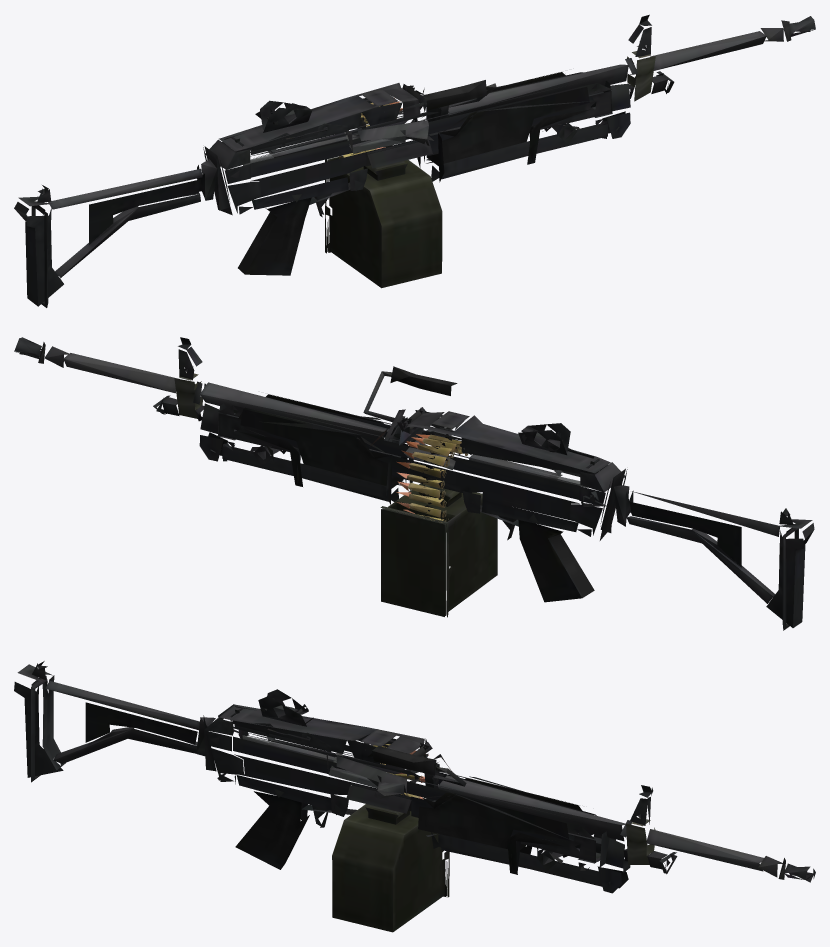
The model's file is lmg_low.glb.
3 views of the same model, one above another, from view 1: azimuth 30°, elevation 25°; view 2: azimuth 150°, elevation 25°; view 3: azimuth 330°, elevation 25° (orthographic).
Parts seen in each view (by area): view 1: body, mag, cover; view 2: body, mag, cover, bolt; view 3: body, mag, cover.
Boxes of the visible parts, left/top/right/bottom form: body: left=14, top=14, right=815, bottom=307; mag: left=325, top=98, right=442, bottom=288; cover: left=219, top=83, right=426, bottom=154; body: left=14, top=337, right=814, bottom=630; mag: left=380, top=434, right=497, bottom=617; cover: left=397, top=411, right=610, bottom=473; bolt: left=468, top=454, right=562, bottom=480; body: left=14, top=661, right=815, bottom=893; mag: left=332, top=744, right=449, bottom=932; cover: left=219, top=689, right=429, bottom=770.
Size of the model in its own units: 1.04 by 0.2387 by 0.131.
1 material, 1 textured.
